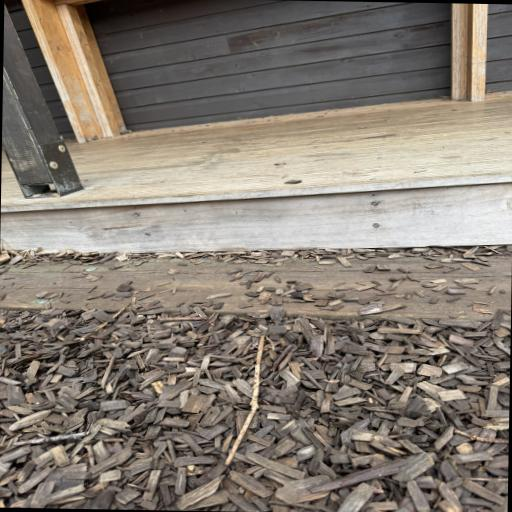step: (0, 184, 512, 320)
